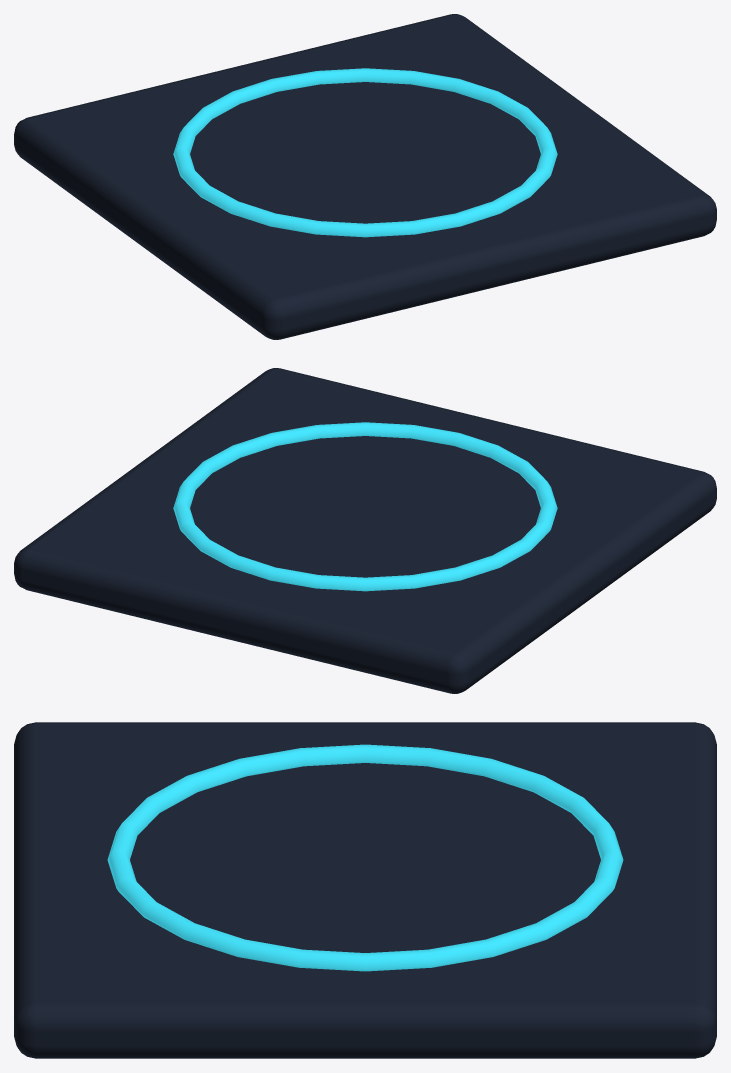
File: turret_pad.glb
3 views of the same model, one above another, from view 1: azimuth 30°, elevation 25°; view 2: azimuth 150°, elevation 25°; view 3: azimuth 270°, elevation 25° (orthographic). The views are drawn at different scales.
Visible parts, largest first — view 1: rig_body, rig_glow; view 2: rig_body, rig_glow; view 3: rig_body, rig_glow.
Boxes of the visible parts, <box> form: rig_body: <box>14,14,716,339</box>; rig_glow: <box>173,68,557,237</box>; rig_body: <box>14,368,716,693</box>; rig_glow: <box>173,422,557,591</box>; rig_body: <box>14,722,716,1058</box>; rig_glow: <box>107,744,623,971</box>.
Bounding box in the file's own units: 0.94 × 0.098 × 0.94.
